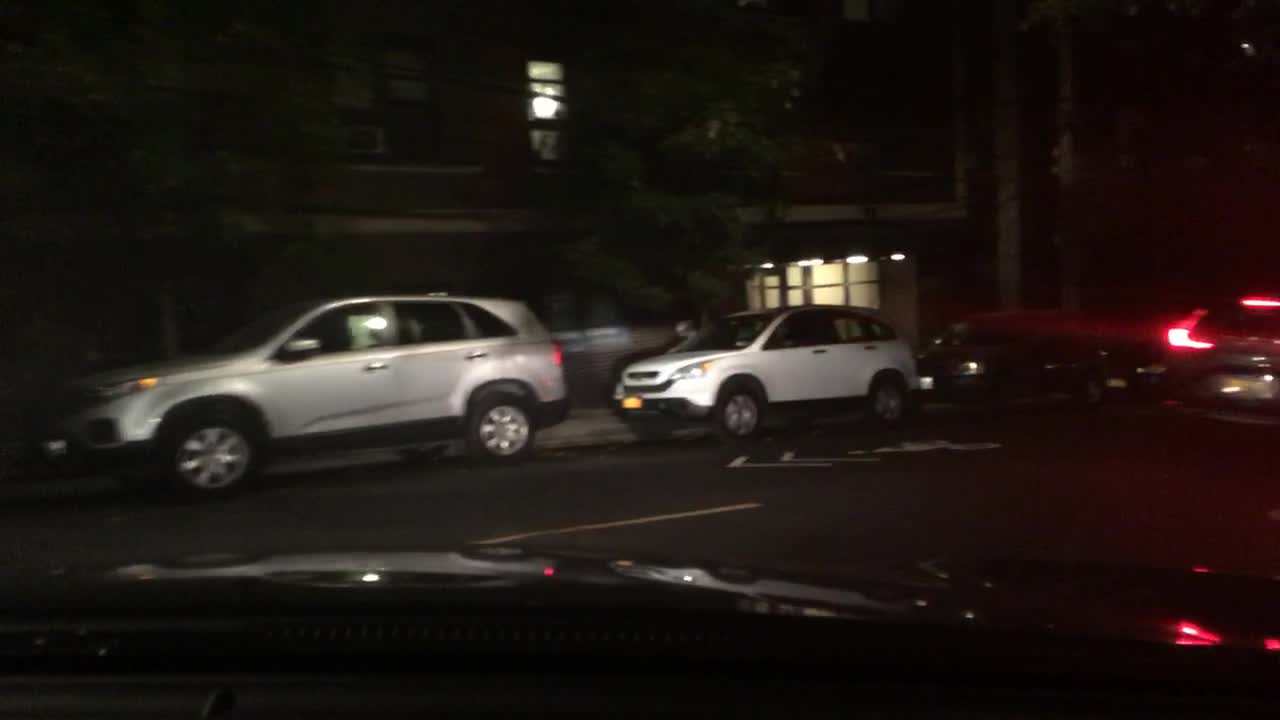car: (35, 294, 568, 504), (610, 302, 919, 443), (916, 316, 1107, 407), (1160, 293, 1276, 422), (1101, 316, 1200, 394)
